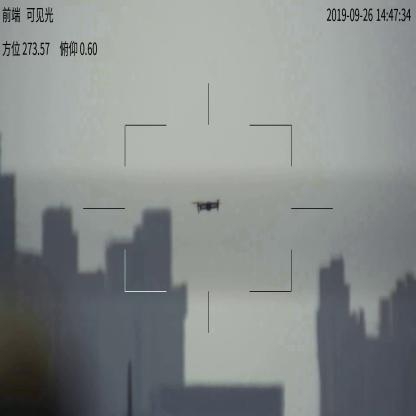uav: (192, 198, 226, 214)
